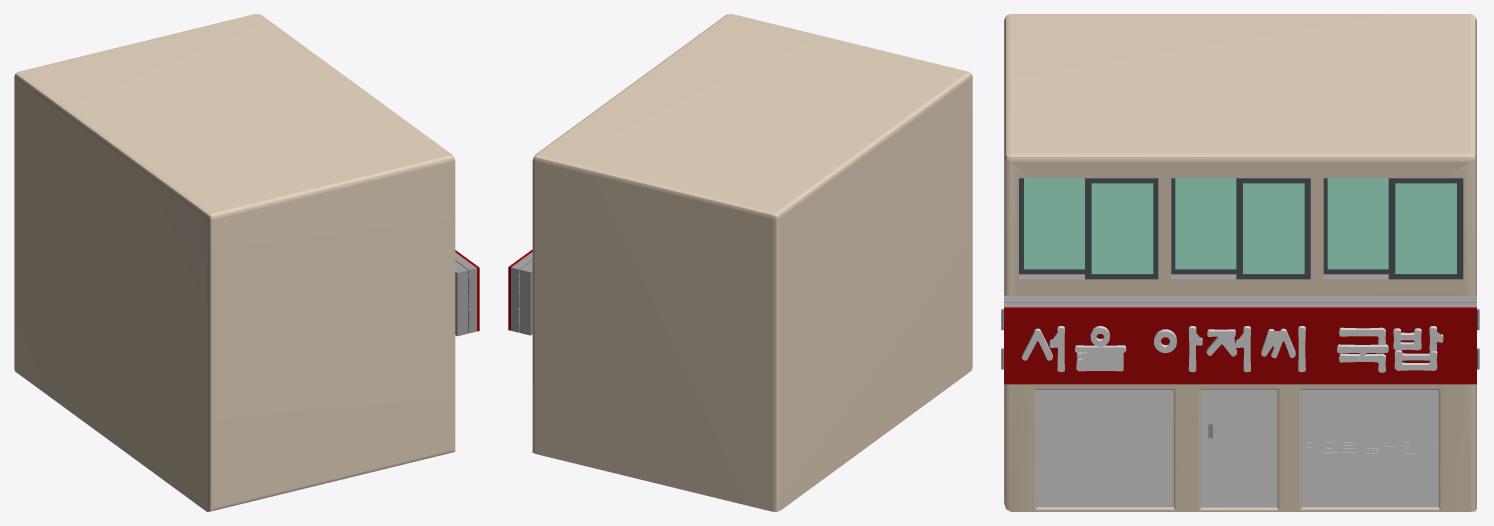
File: 서울 아저씨 국밥.fbx
The picture shows the model from 3 angles, left to right: view 1: azimuth 30°, elevation 25°; view 2: azimuth 150°, elevation 25°; view 3: azimuth 270°, elevation 25°; orthographic projection. The views are drawn at different scales.
Parts seen in each view (by area): view 1: polySurface3, pCube3; view 2: polySurface3, pCube3; view 3: polySurface3, pCube3, pCube5, pCube4, pCube6, typeMesh1, pCube13, pCube15, pCube17, pCube16, pCube18, pCube14 (+7 smaller).
Part boxes in pixels (x1=…): polySurface3: x1=14, y1=14, x2=455, y2=511; pCube3: x1=455, y1=250, x2=479, y2=336; polySurface3: x1=531, y1=14, x2=972, y2=511; pCube3: x1=508, y1=249, x2=532, y2=335; polySurface3: x1=1004, y1=14, x2=1476, y2=511; pCube3: x1=1004, y1=295, x2=1476, y2=384; pCube5: x1=1037, y1=390, x2=1173, y2=507; pCube4: x1=1302, y1=390, x2=1438, y2=507; pCube6: x1=1201, y1=389, x2=1277, y2=507; typeMesh1: x1=1022, y1=326, x2=1443, y2=372; pCube13: x1=1091, y1=183, x2=1153, y2=273; pCube15: x1=1175, y1=178, x2=1236, y2=269; pCube17: x1=1327, y1=178, x2=1388, y2=269; pCube16: x1=1243, y1=183, x2=1304, y2=273; pCube18: x1=1395, y1=183, x2=1456, y2=273; pCube14: x1=1024, y1=178, x2=1084, y2=269.
Size of the model in its own units: 84.94 by 88.61 by 108.
